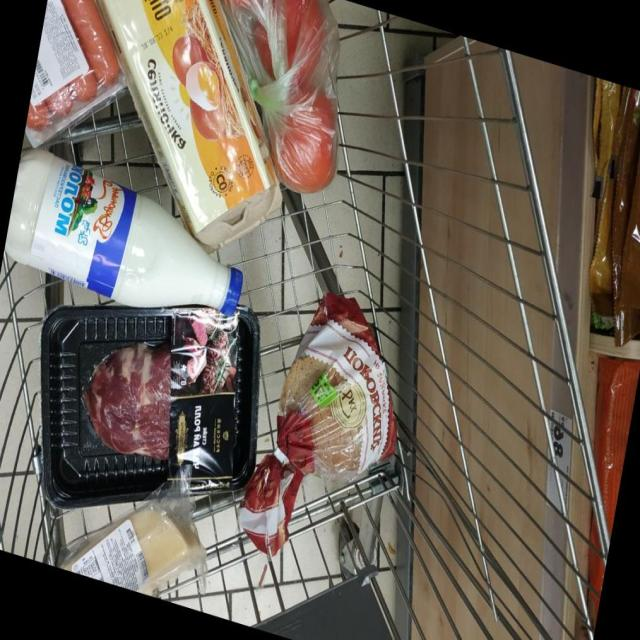Bread: (238, 292, 396, 554)
Cheese: (59, 479, 206, 597)
Eggs: (98, 0, 278, 244), (25, 0, 125, 146)
Meat: (40, 305, 260, 508)
Milk: (4, 149, 242, 315)
Tomatoes: (276, 90, 336, 193), (286, 0, 323, 66), (254, 21, 274, 77), (295, 66, 312, 79)
